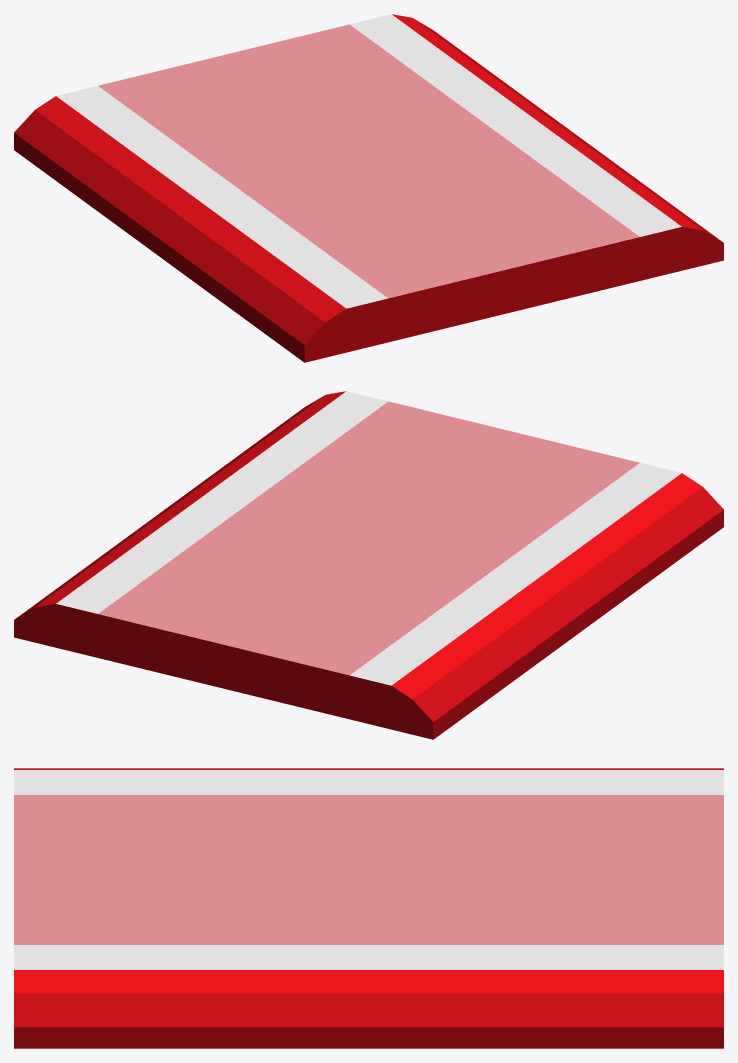
3 renders of one model, top to bottom at view 1: azimuth 30°, elevation 25°; view 2: azimuth 150°, elevation 25°; view 3: azimuth 270°, elevation 25°, orthographic. The views are drawn at different scales.
Visible parts, largest first — view 1: Straight1X; view 2: Straight1X; view 3: Straight1X.
Part boxes in pixels (<box>): Straight1X: <box>14,14,723,362</box>; Straight1X: <box>14,391,723,739</box>; Straight1X: <box>14,768,723,1048</box>.
Bounding box in the file's own units: 10 × 1 × 12.
